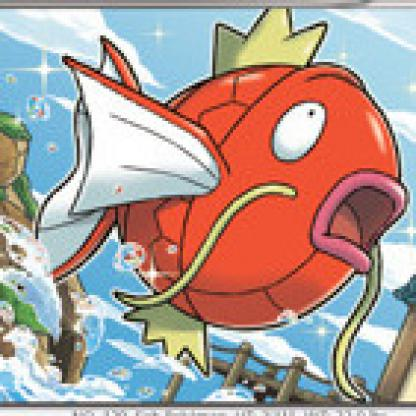Magikarp: (42, 28, 414, 394)
